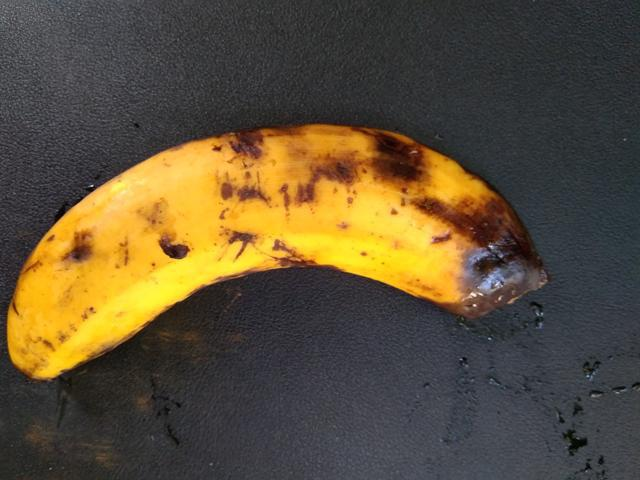overripe: (0, 94, 387, 402)
rotten: (304, 112, 566, 332)
